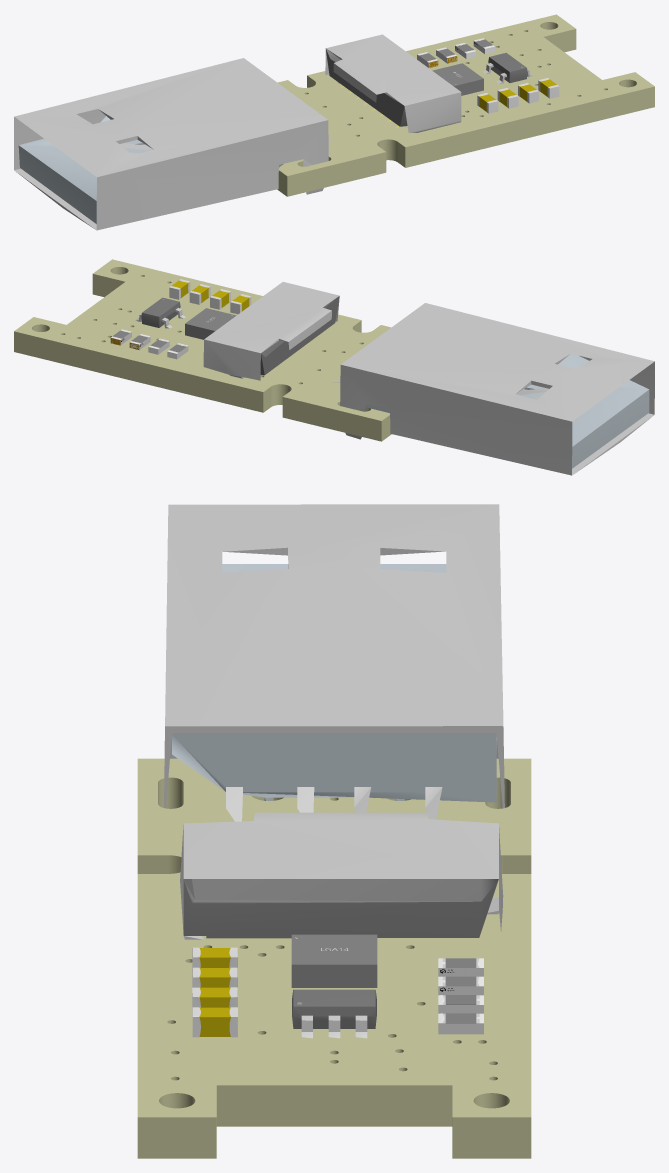
File: pcb.gltf
3 views of the same model, one above another, from view 1: azimuth 30°, elevation 25°; view 2: azimuth 150°, elevation 25°; view 3: azimuth 270°, elevation 25° (orthographic). The views are drawn at different scales.
Parts seen in each view (by area): view 1: 3D_PCB1_2024-03-22; view 2: 3D_PCB1_2024-03-22; view 3: 3D_PCB1_2024-03-22.
Part boxes in pixels (<box>): 3D_PCB1_2024-03-22: <box>14,14,654,230</box>; 3D_PCB1_2024-03-22: <box>14,259,654,475</box>; 3D_PCB1_2024-03-22: <box>137,504,531,1158</box>.
Bounding box in the file's own units: 4.46 × 0.5677 × 1.38.
